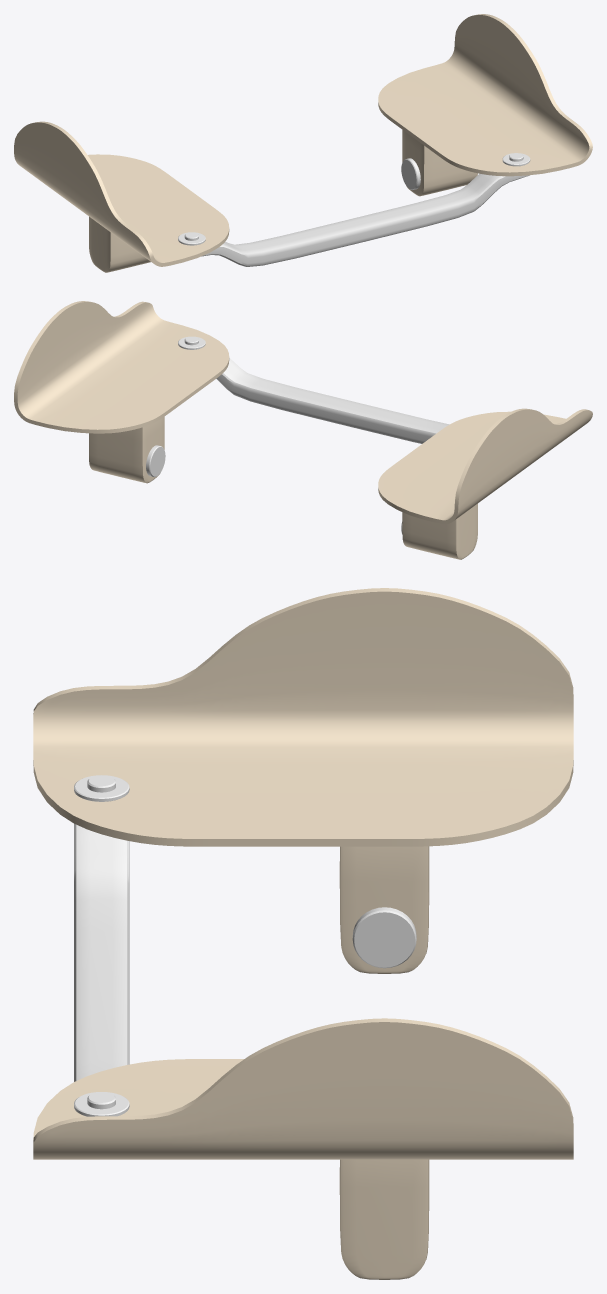
Rendered from wheel_bar.glb.
3 views of the same model, one above another, from view 1: azimuth 30°, elevation 25°; view 2: azimuth 150°, elevation 25°; view 3: azimuth 270°, elevation 25° (orthographic). The views are drawn at different scales.
Parts seen in each view (by area): view 1: wheel_bar; view 2: wheel_bar; view 3: wheel_bar.
Part boxes in pixels (x1,y1,x2,y2): wheel_bar: (14, 14, 592, 272); wheel_bar: (14, 301, 592, 559); wheel_bar: (33, 588, 573, 1279).
Size of the model in its own units: 0.3344 by 0.1066 by 0.176.
